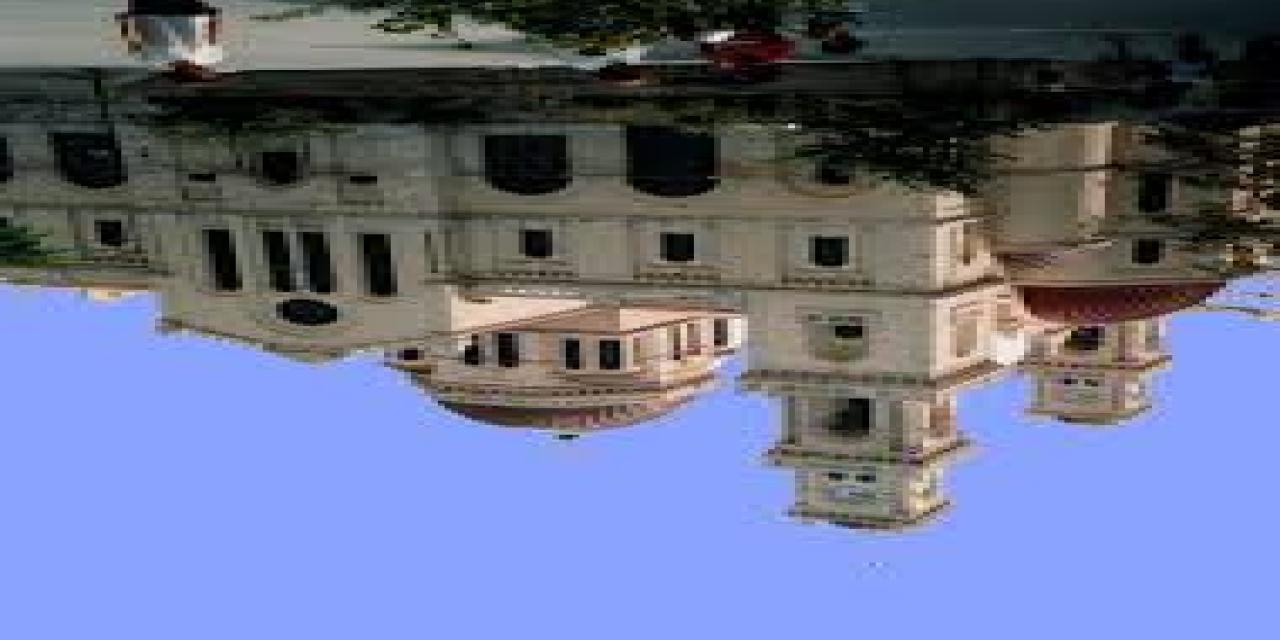Agios Minas: (1, 112, 1280, 541)
